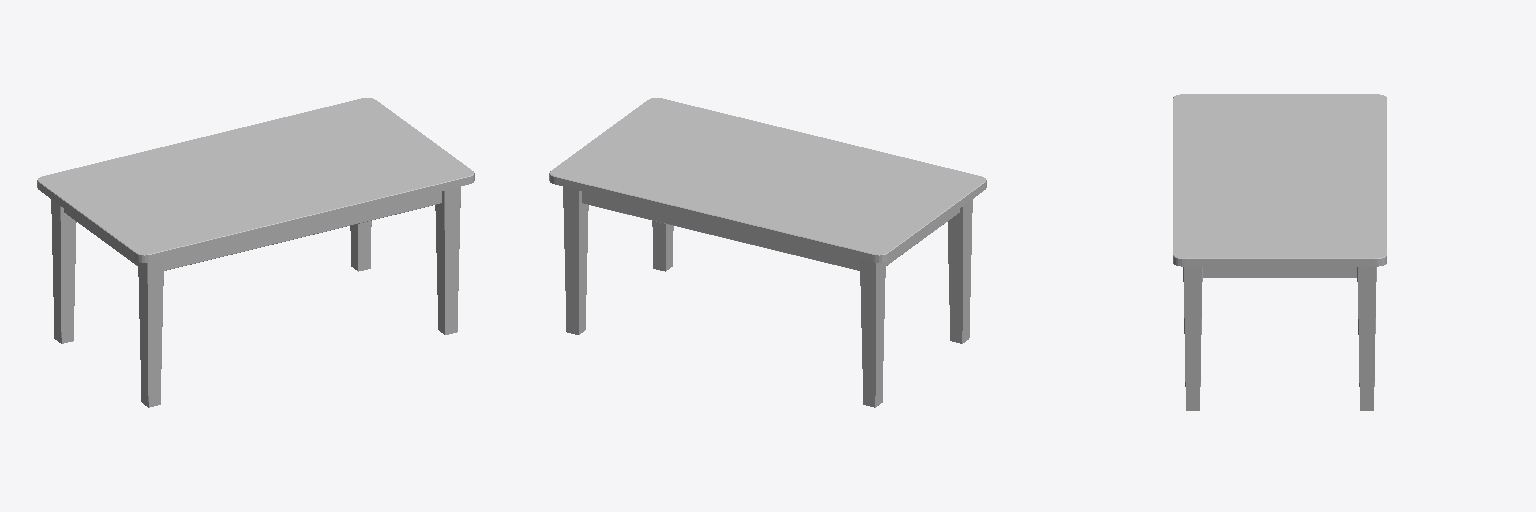
The model's file is table.obj.
The picture shows the model from 3 angles: view 1: azimuth 30°, elevation 25°; view 2: azimuth 150°, elevation 25°; view 3: azimuth 270°, elevation 25°; orthographic projection.
Parts seen in each view (by area): view 1: Layer_01; view 2: Layer_01; view 3: Layer_01.
Part boxes in pixels (x1,y1,x2,y2): Layer_01: (37, 98, 474, 407); Layer_01: (549, 98, 986, 407); Layer_01: (1173, 94, 1386, 410).
Size of the model in its own units: 68.38 by 30.88 by 37.62.